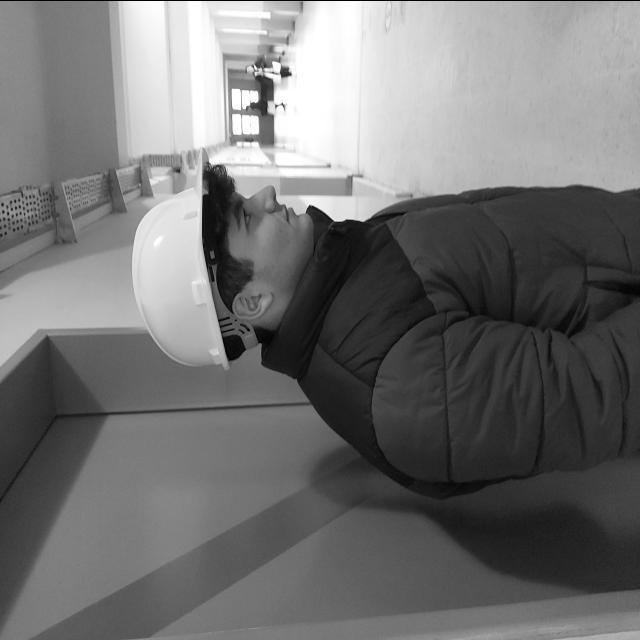safety_helmet: (132, 164, 254, 368)
